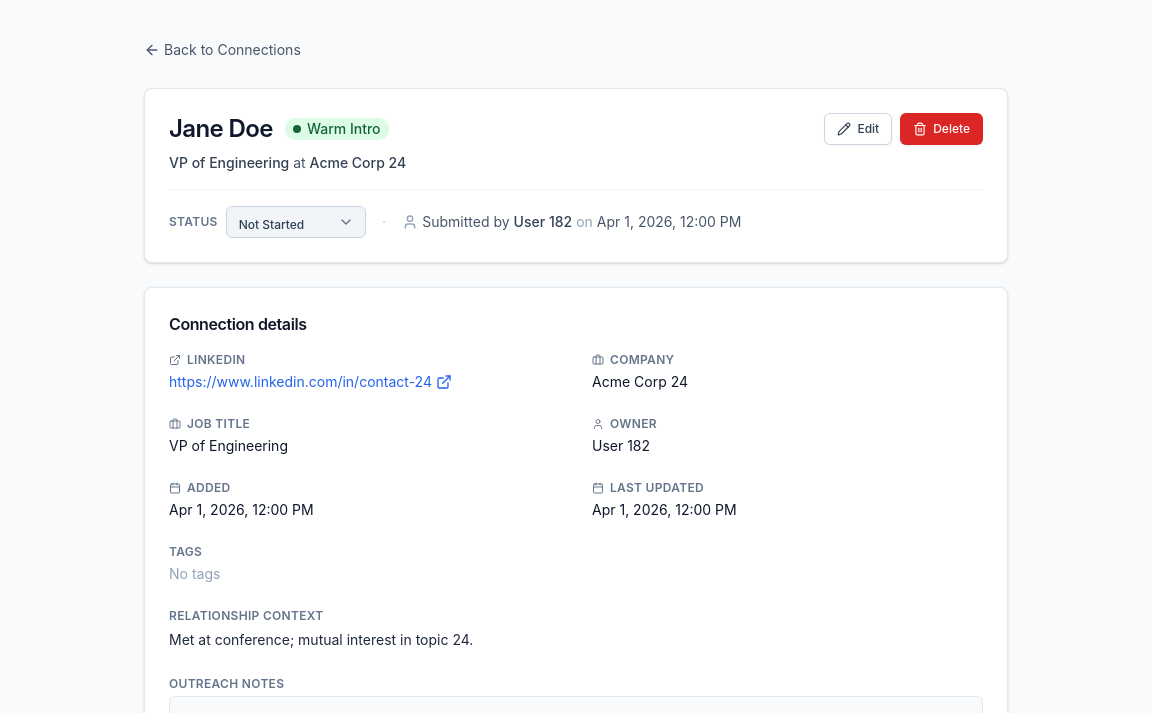
Scenario: <ConnectionDetail /> › Soft-delete flow (F-007) › Cancel button is disabled while the delete mutation is pending
This screenshot has width=1152, height=713.
Click the button with test id "connection-detail-delete": [942, 129] box [900,113,983,145]
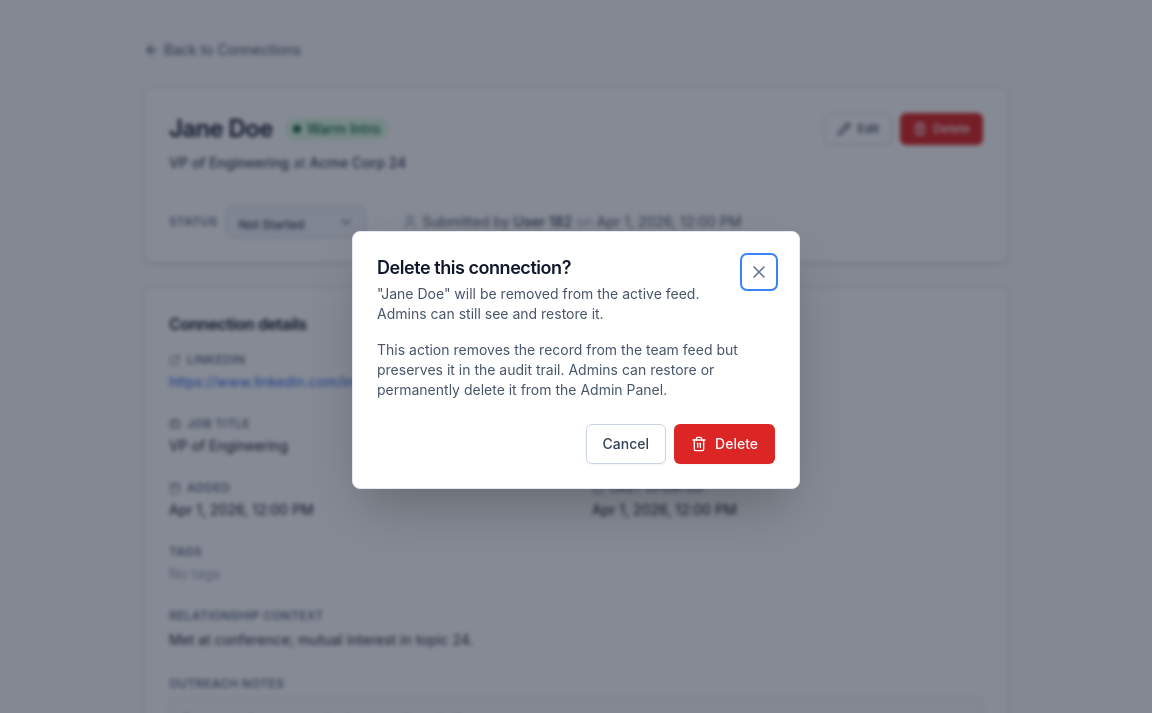
Now the dialog with test id "modal-dialog" is shown, box [352,231,800,489]
Now the button with test id "connection-detail-soft-delete-cancel" is enabled, box [586,424,666,464]
Click the button with test id "connection-detail-soft-delete-confirm": [725, 444] box [674,424,775,464]
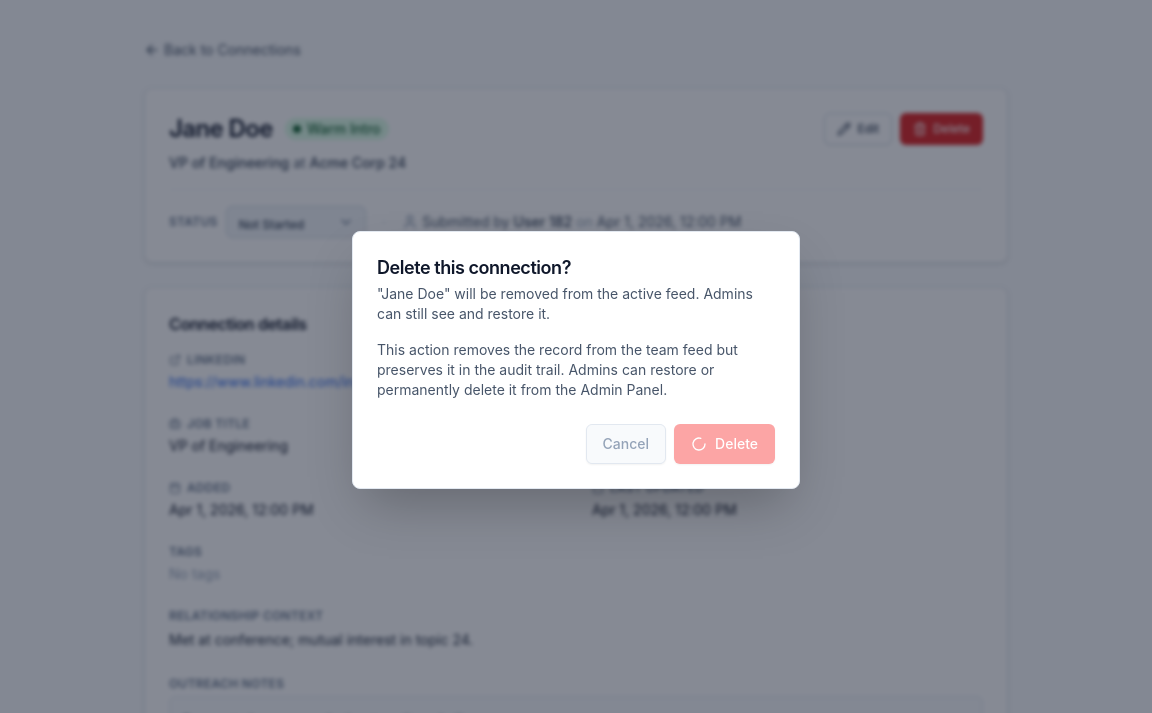
Now the button with test id "connection-detail-soft-delete-cancel" is disabled, box [586,424,666,464]
